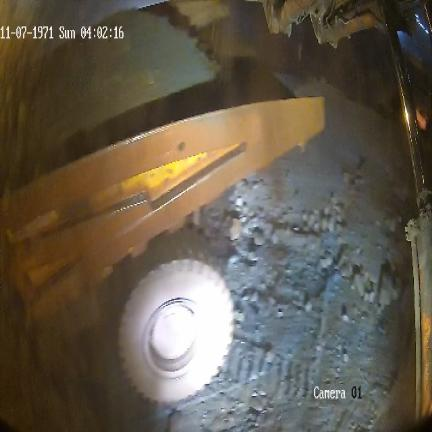pile: (196, 106, 414, 360), (28, 7, 225, 157)
